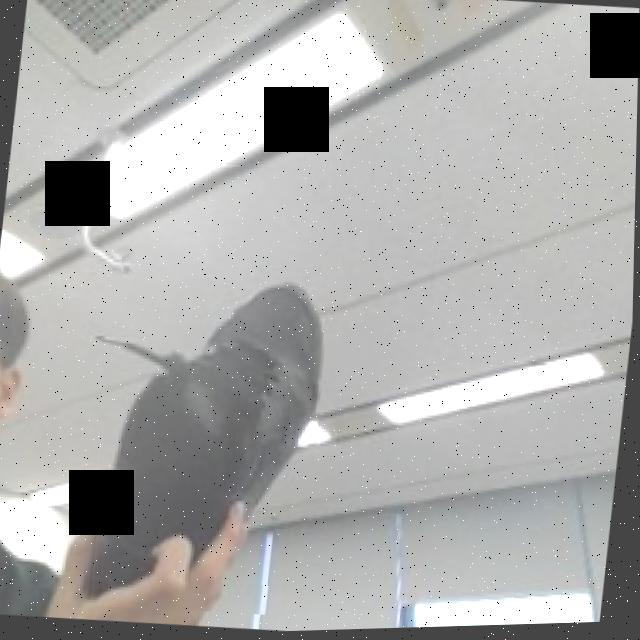shoe: (87, 268, 334, 624)
